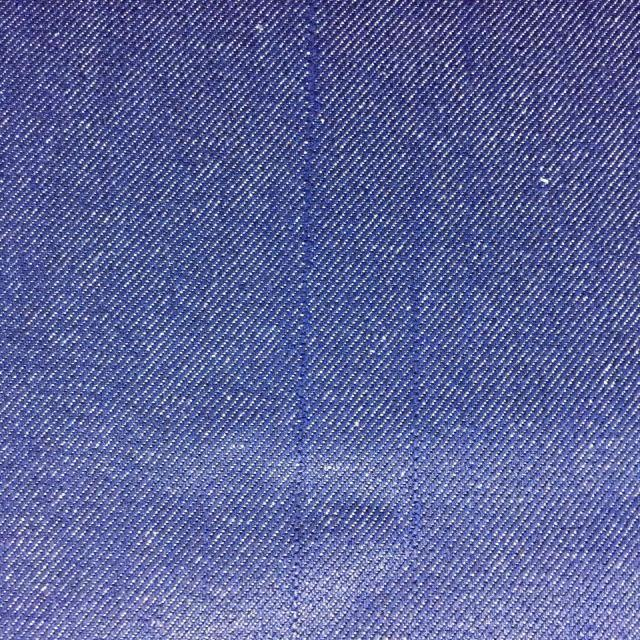Line: (282, 0, 318, 640), (457, 0, 477, 431), (406, 283, 423, 543)
